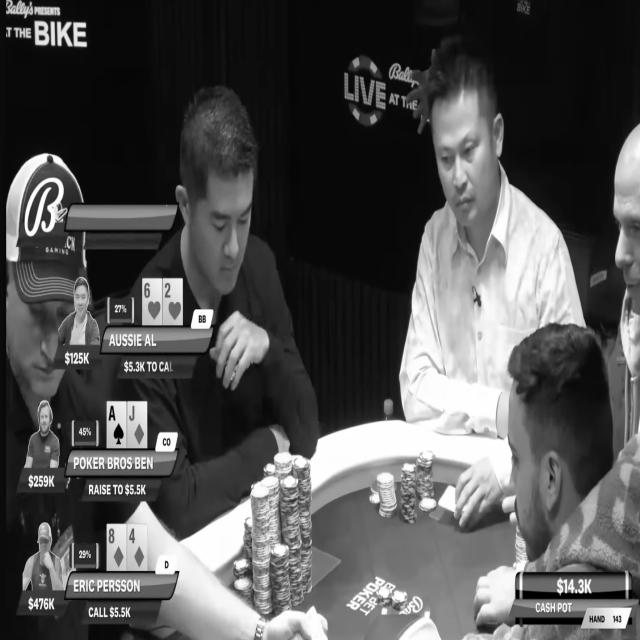2H: (163, 278, 182, 325)
4D: (128, 525, 147, 572)
6H: (142, 279, 162, 324)
8D: (106, 525, 126, 571)
AS: (107, 401, 127, 449)
JD: (128, 402, 148, 449)
